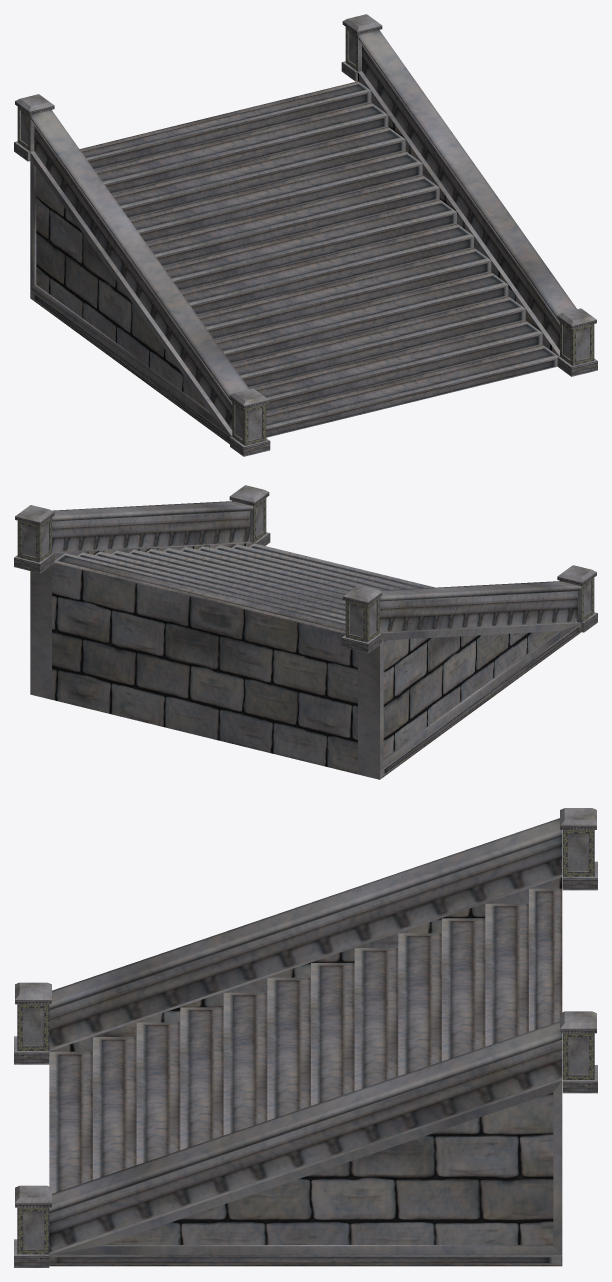
Rendered from platform_stairs_01.fbx.
The picture shows the model from 3 angles, top to bottom: view 1: azimuth 30°, elevation 25°; view 2: azimuth 150°, elevation 25°; view 3: azimuth 270°, elevation 25°; orthographic projection. The views are drawn at different scales.
Visible parts, largest first — view 1: platform_stairs_01; view 2: platform_stairs_01; view 3: platform_stairs_01.
Boxes of the visible parts, bbox=[...] form: platform_stairs_01: bbox=[14, 14, 597, 456]; platform_stairs_01: bbox=[14, 485, 597, 779]; platform_stairs_01: bbox=[14, 808, 597, 1267].
Size of the model in its own units: 811 by 417 by 911.
